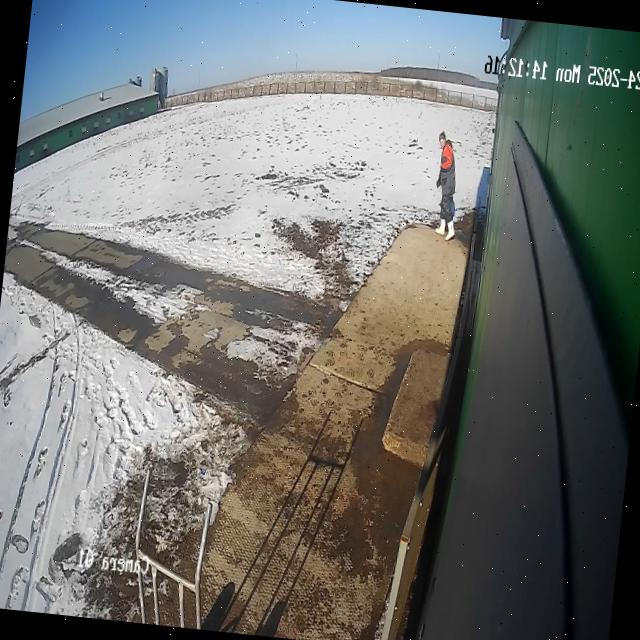Red uniform: (435, 131, 455, 241)
